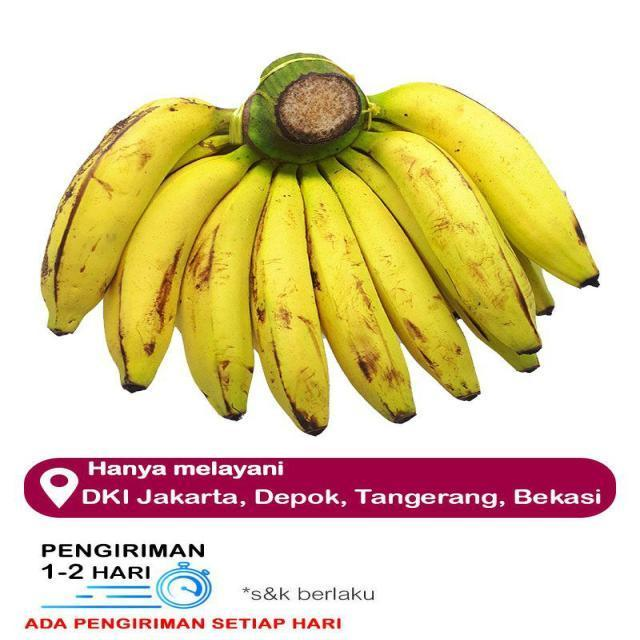Banana: (33, 48, 609, 442), (323, 82, 602, 434), (39, 92, 259, 428), (257, 172, 332, 440)
